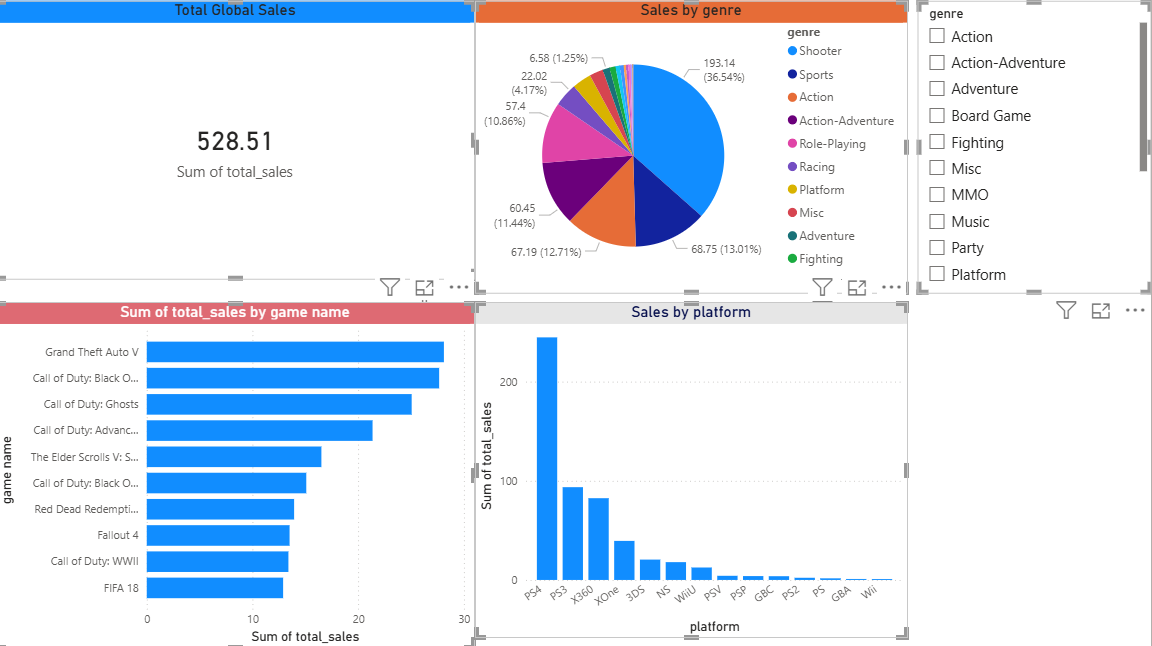

The dashboard page shown, as its layout file describes it:
{"tool":"powerbi","page":{"name":"Page 1","canvas":[1280,720],"ordinal":0},"visuals":[{"type":"card","title":"Total Global Sales","fields":{"Values":["Sum(Video Games Sales (1980-2024) -.total_sales)"]},"box":[11,9.6,526.9,306],"z":0},{"type":"clusteredBarChart","fields":{"Category":["Video Games Sales (1980-2024) -.game name"],"Y":["Sum(Video Games Sales (1980-2024) -.total_sales)"]},"box":[11,340.3,526.9,380.1],"z":1},{"type":"pieChart","title":"Sales by genre","fields":{"Category":["Video Games Sales (1980-2024) -.genre"],"Y":["Sum(Video Games Sales (1980-2024) -.total_sales)"]},"box":[537.9,9.6,474.8,321.1],"z":2},{"type":"clusteredColumnChart","title":"Sales by platform","fields":{"Category":["Video Games Sales (1980-2024) -.platform"],"Y":["Sum(Video Games Sales (1980-2024) -.total_sales)"]},"box":[537.9,340.3,474.8,369.1],"z":3},{"type":"slicer","fields":{"Values":["Video Games Sales (1980-2024) -.genre"]},"box":[1023,10,257,321],"z":4}]}

Visuals, with their boxes in screenshot pixels (x1, y1, x2, y2), scaled from the page's 1280x720 canvas onto the 1152x646 screenshot:
"Total Global Sales" card: 10 9 484 283
clusteredBarChart - Video Games Sales (1980-2024) -.game name x Sum(Video Games Sales (1980-2024) -.total_sales): 10 305 484 645
"Sales by genre" pieChart: 484 9 911 297
"Sales by platform" clusteredColumnChart: 484 305 911 636
slicer - Video Games Sales (1980-2024) -.genre: 921 9 1151 297
